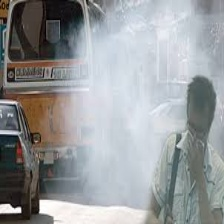smoke: (105, 52, 148, 178)
